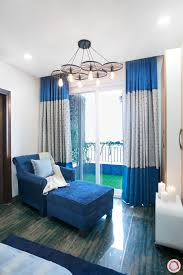bulb: (62, 71, 76, 87), (52, 76, 66, 89), (92, 77, 105, 91), (75, 75, 86, 91), (86, 68, 97, 84), (108, 66, 119, 81)
